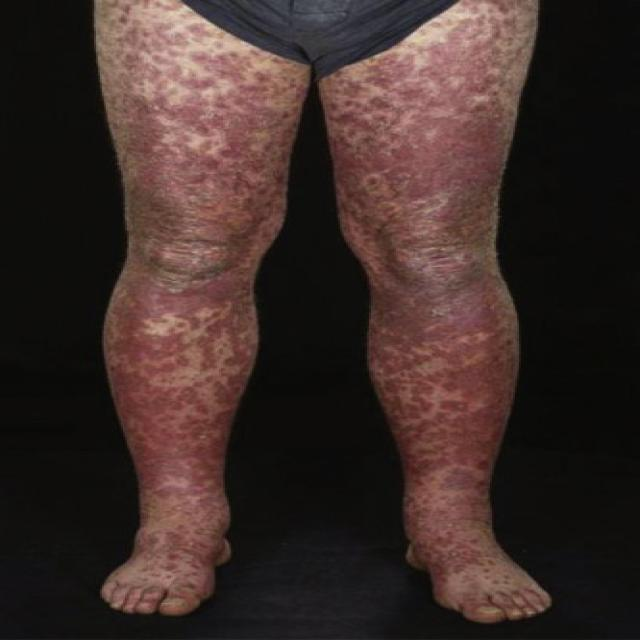Psoriasis Eritrodermica: (94, 0, 550, 620)
